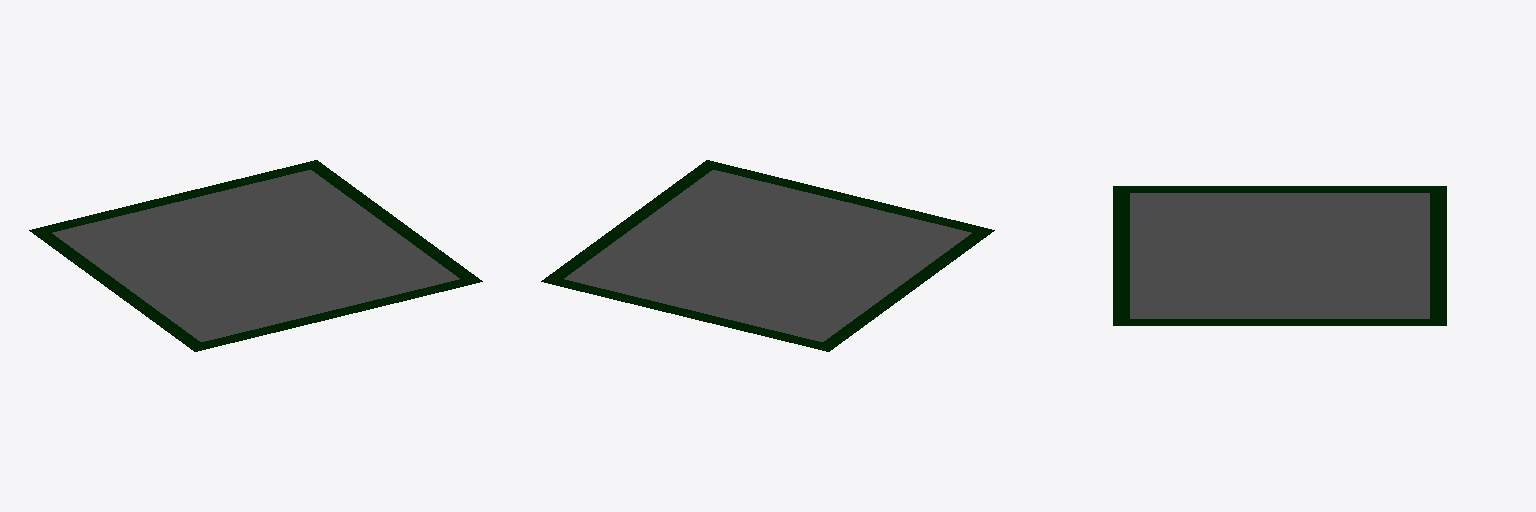
The model's file is ground.obj.
3 renders of one model, left to right at view 1: azimuth 30°, elevation 25°; view 2: azimuth 150°, elevation 25°; view 3: azimuth 270°, elevation 25°, orthographic.
Parts seen in each view (by area): view 1: Plane_Plane.001, Ground_Plane; view 2: Plane_Plane.001, Ground_Plane; view 3: Plane_Plane.001, Ground_Plane.
Part boxes in pixels (x1,y1,x2,y2): Plane_Plane.001: (52, 170, 459, 341); Ground_Plane: (29, 160, 482, 351); Plane_Plane.001: (564, 170, 971, 341); Ground_Plane: (541, 160, 994, 351); Plane_Plane.001: (1130, 193, 1429, 318); Ground_Plane: (1113, 186, 1446, 325).
Size of the model in its own units: 100 by 0.001 by 100.